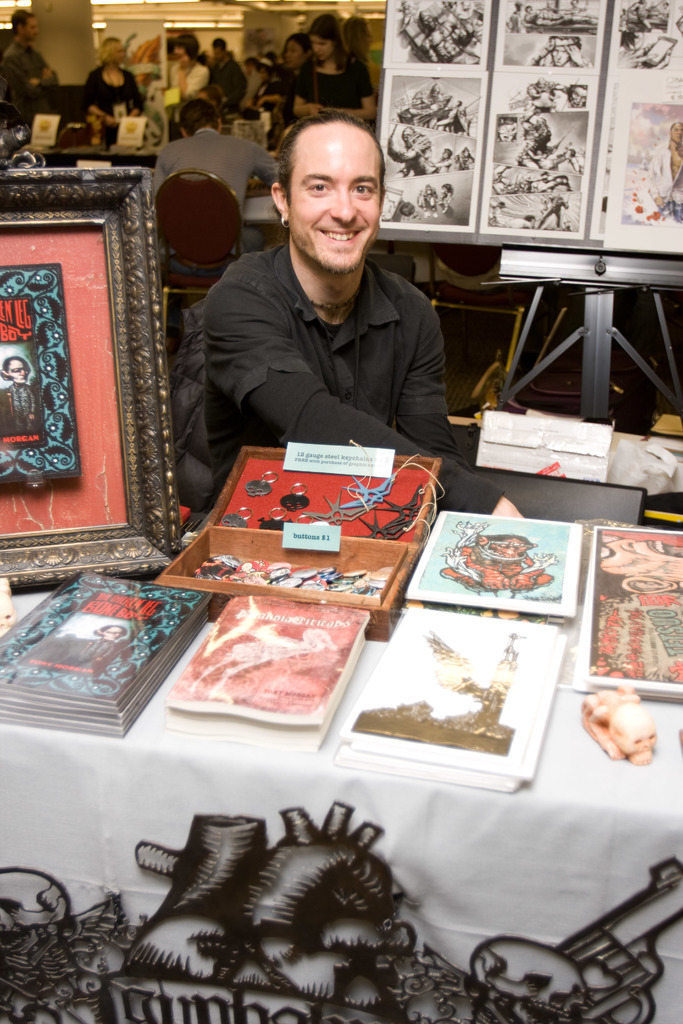Human-face: (288, 120, 384, 274), (597, 532, 682, 584), (283, 38, 305, 68), (311, 31, 333, 61), (550, 44, 570, 68), (566, 89, 587, 108), (111, 40, 125, 65), (670, 120, 682, 145), (172, 44, 188, 60), (27, 17, 37, 38)
